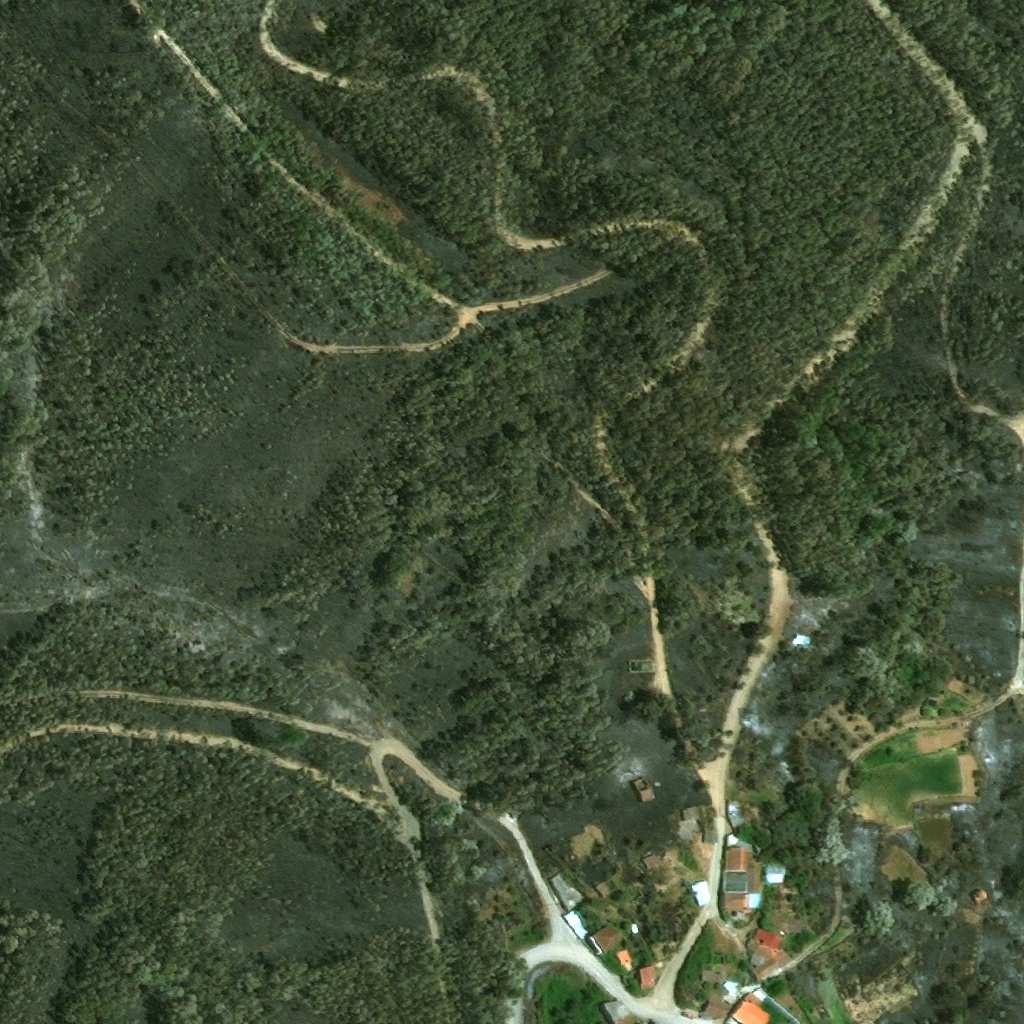0 no-damage: (718, 833, 761, 922), (549, 871, 585, 912), (595, 869, 636, 899), (752, 950, 790, 978), (589, 925, 622, 957), (731, 999, 771, 1023), (602, 1001, 638, 1023), (562, 911, 588, 940), (700, 807, 720, 843), (769, 914, 801, 934), (727, 801, 747, 832), (691, 880, 712, 907), (681, 806, 696, 841), (750, 943, 772, 966), (705, 998, 731, 1017), (615, 950, 634, 973), (703, 964, 727, 982), (755, 928, 778, 946), (766, 862, 785, 883), (640, 966, 655, 989), (793, 629, 811, 648), (644, 854, 659, 867)
2 major-damage: (635, 779, 656, 802)
